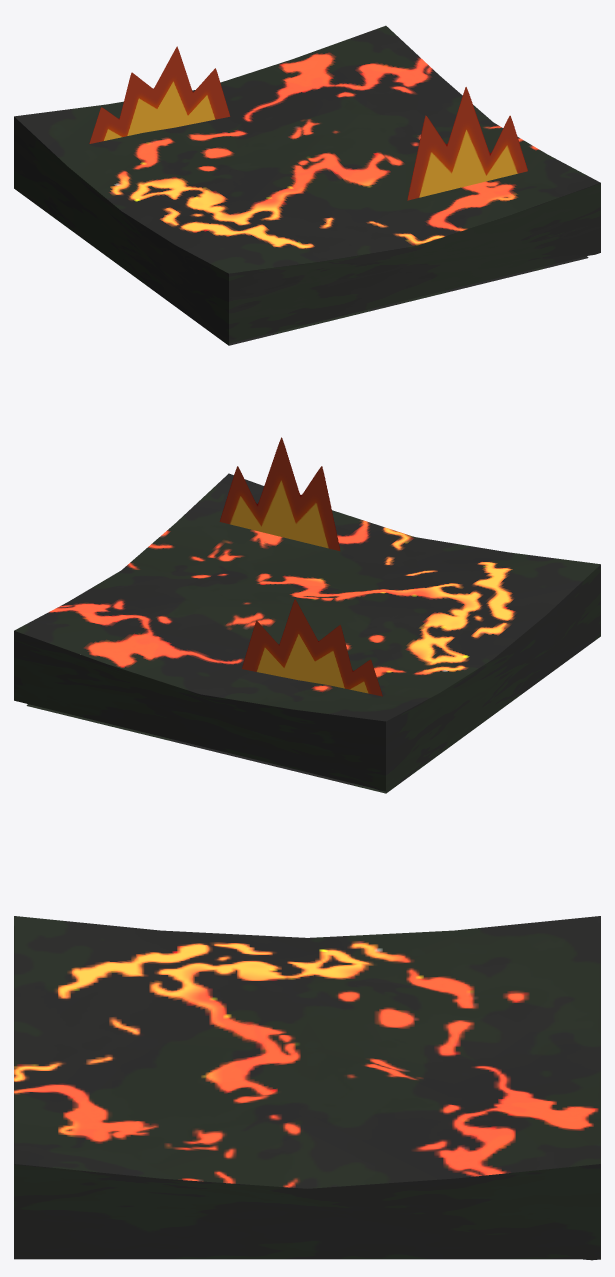
File: 3FireTile.fbx
The picture shows the model from 3 angles, top to bottom: view 1: azimuth 30°, elevation 25°; view 2: azimuth 150°, elevation 25°; view 3: azimuth 270°, elevation 25°; orthographic projection. The views are drawn at different scales.
Visible parts, largest first — view 1: 3FireTile., 1BurningFire.011, 3BurningFire.002; view 2: 3FireTile., 1BurningFire.011, 3BurningFire.002; view 3: 3FireTile..
Part boxes in pixels (x1,y1,x2,y2): 3FireTile.: (14,25,600,345); 1BurningFire.011: (407,87,527,200); 3BurningFire.002: (89,46,230,143); 3FireTile.: (14,473,600,793); 1BurningFire.011: (219,437,340,550); 3BurningFire.002: (242,599,382,696); 3FireTile.: (14,916,600,1260).
Bounding box in the file's own units: 200 × 106 × 200.
3 materials, 3 textured.
